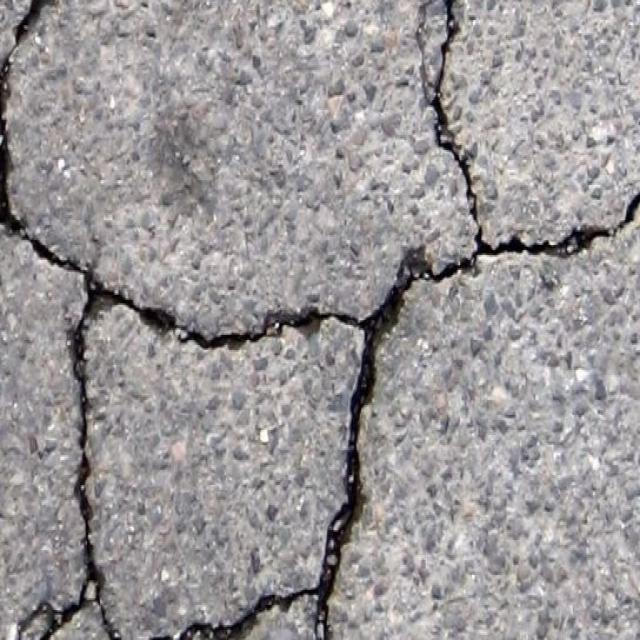crack: (362, 0, 472, 342), (0, 2, 86, 278), (17, 574, 335, 638), (472, 188, 639, 282), (73, 278, 122, 572), (120, 292, 361, 350), (323, 346, 377, 571)
